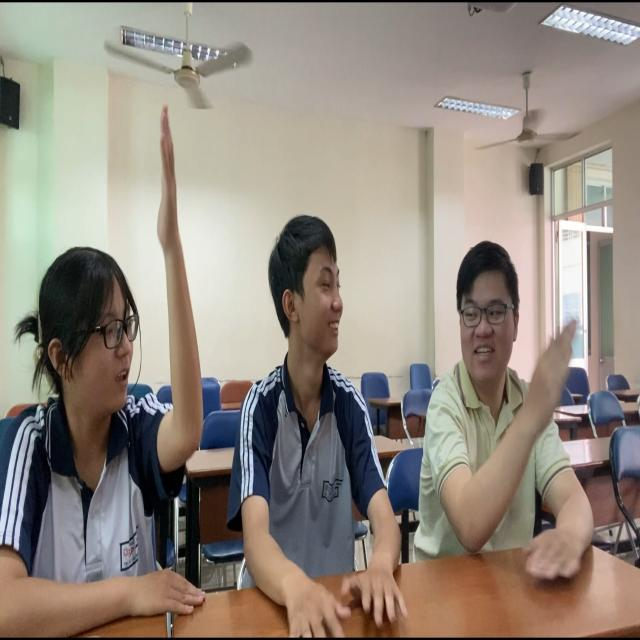raise_hand: (1, 92, 209, 640), (415, 234, 602, 603)
